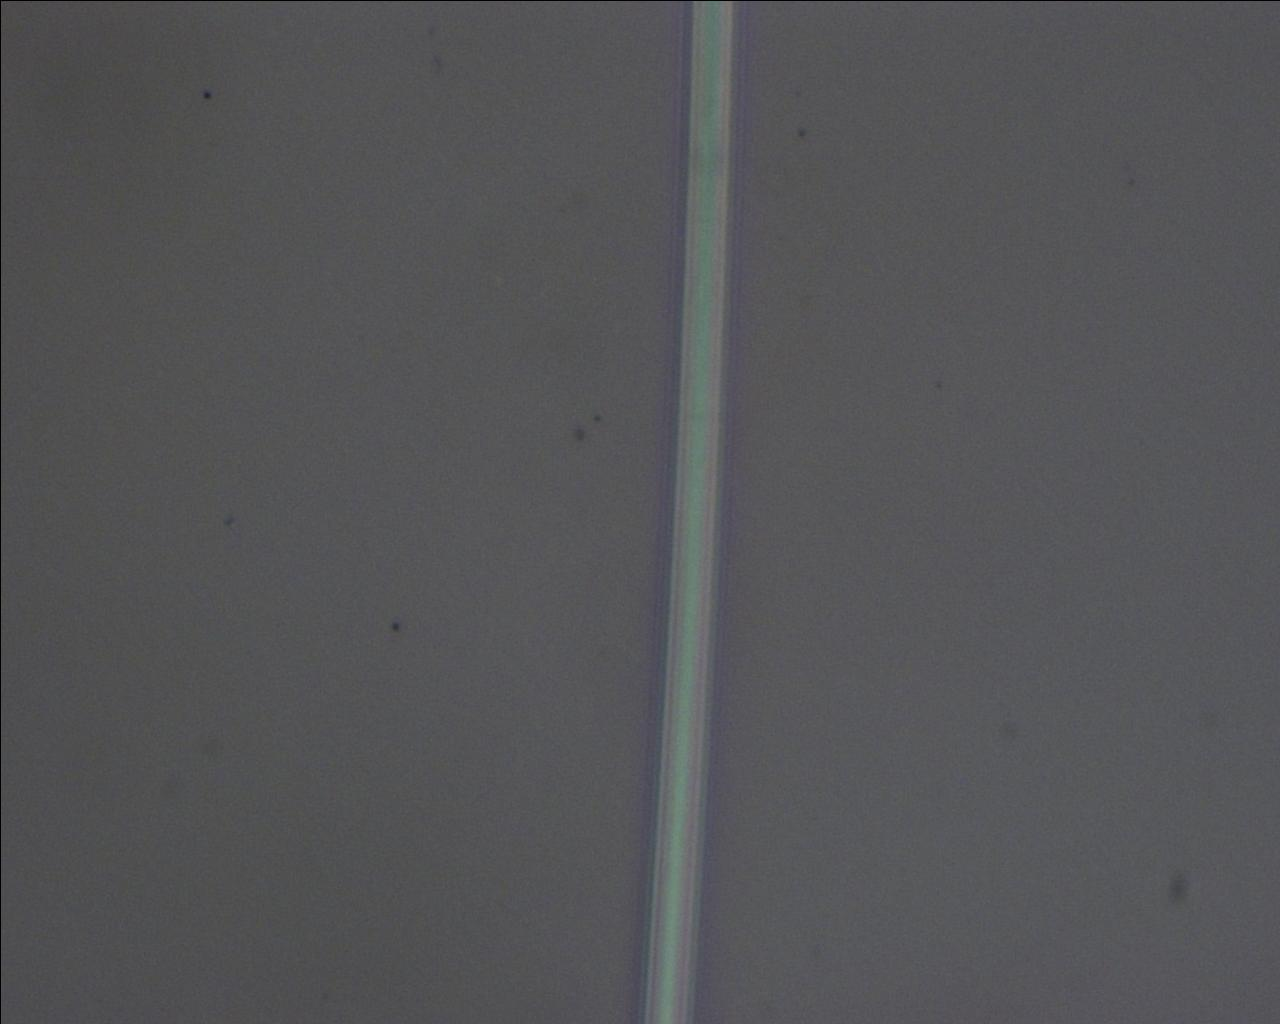fiber: (644, 0, 741, 1024)
